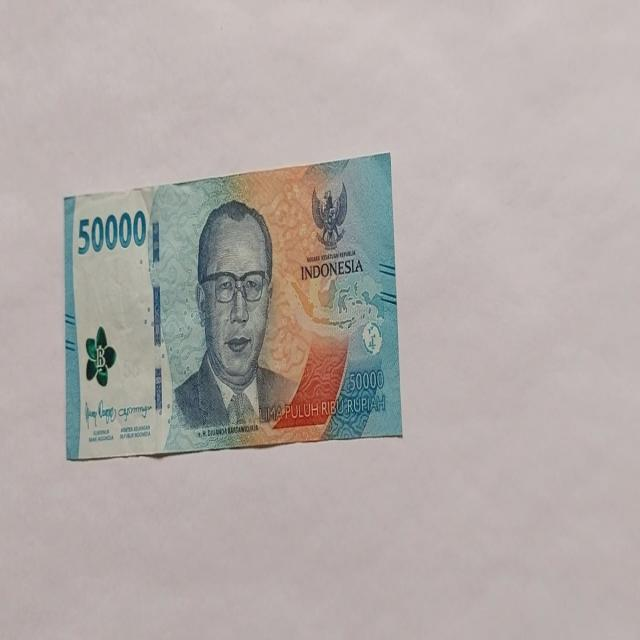lima puluh ribu rupiah: (64, 151, 402, 461), (169, 198, 298, 436)
